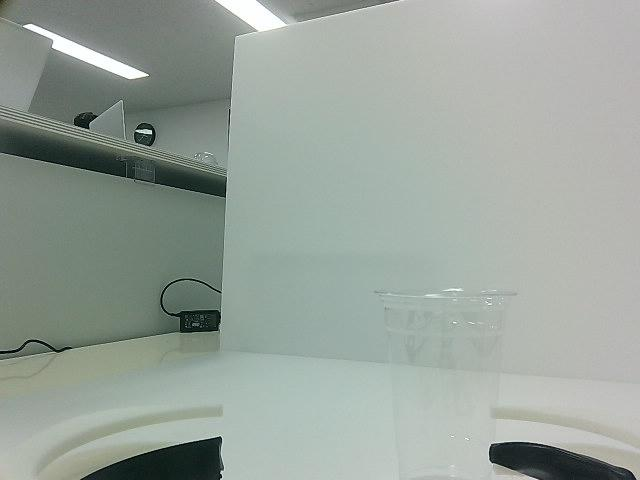Plastik: (371, 283, 516, 480)
